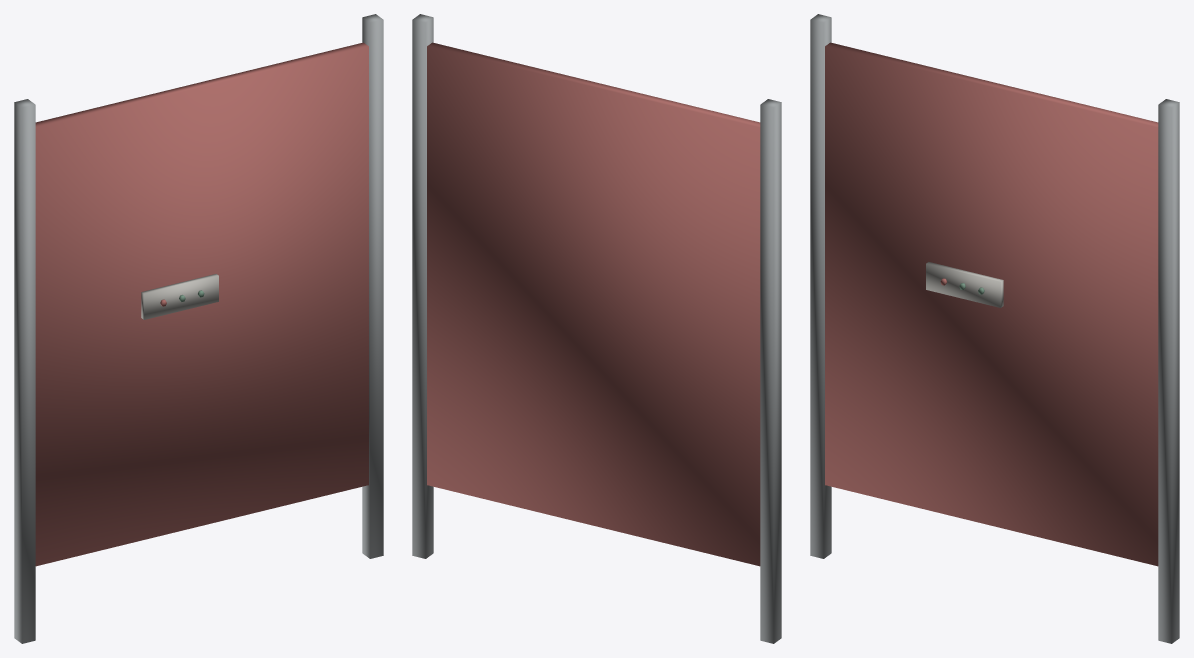
The model's file is welding_screen__tall.glb.
The picture shows the model from 3 angles, left to right: view 1: azimuth 30°, elevation 25°; view 2: azimuth 150°, elevation 25°; view 3: azimuth 330°, elevation 25°; orthographic projection.
Visible parts, largest first — view 1: world; view 2: world; view 3: world.
Boxes of the visible parts, bbox=[...] form: world: bbox=[14, 14, 383, 643]; world: bbox=[412, 14, 781, 643]; world: bbox=[810, 14, 1179, 643].
Bounding box in the file's own units: 1.35 × 1.91 × 0.081.
